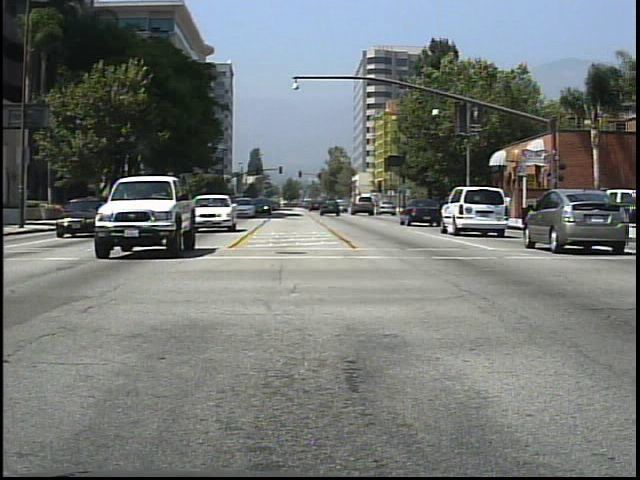person: (497, 190, 516, 228), (457, 192, 475, 227)
